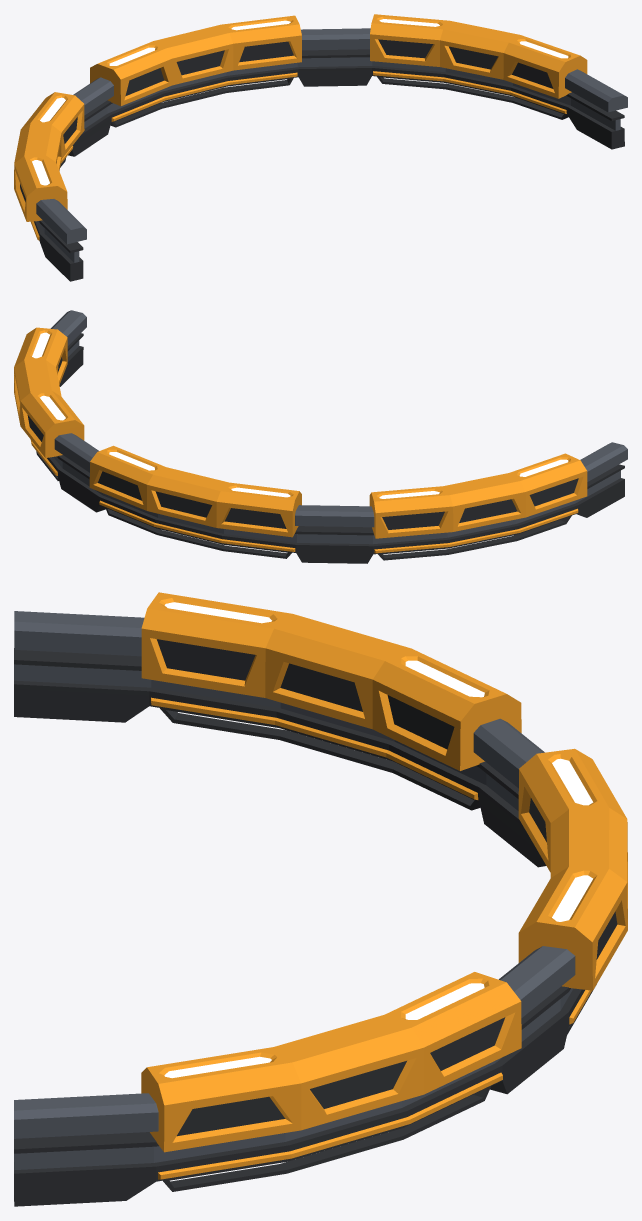
File: SM_the_turning_section_of_the_conveyor.glb
3 renders of one model, top to bottom at view 1: azimuth 30°, elevation 25°; view 2: azimuth 150°, elevation 25°; view 3: azimuth 270°, elevation 25°, orthographic. The views are drawn at different scales.
Visible parts, largest first — view 1: SM_the_turning_section_of_the_conveyor; view 2: SM_the_turning_section_of_the_conveyor; view 3: SM_the_turning_section_of_the_conveyor.
Boxes of the visible parts, <box> form: SM_the_turning_section_of_the_conveyor: <box>14,14,627,281</box>; SM_the_turning_section_of_the_conveyor: <box>14,310,627,563</box>; SM_the_turning_section_of_the_conveyor: <box>14,592,627,1206</box>.
Size of the model in its own units: 2.07 by 0.2252 by 1.06.
Materials: 2 (1 with a texture image).
